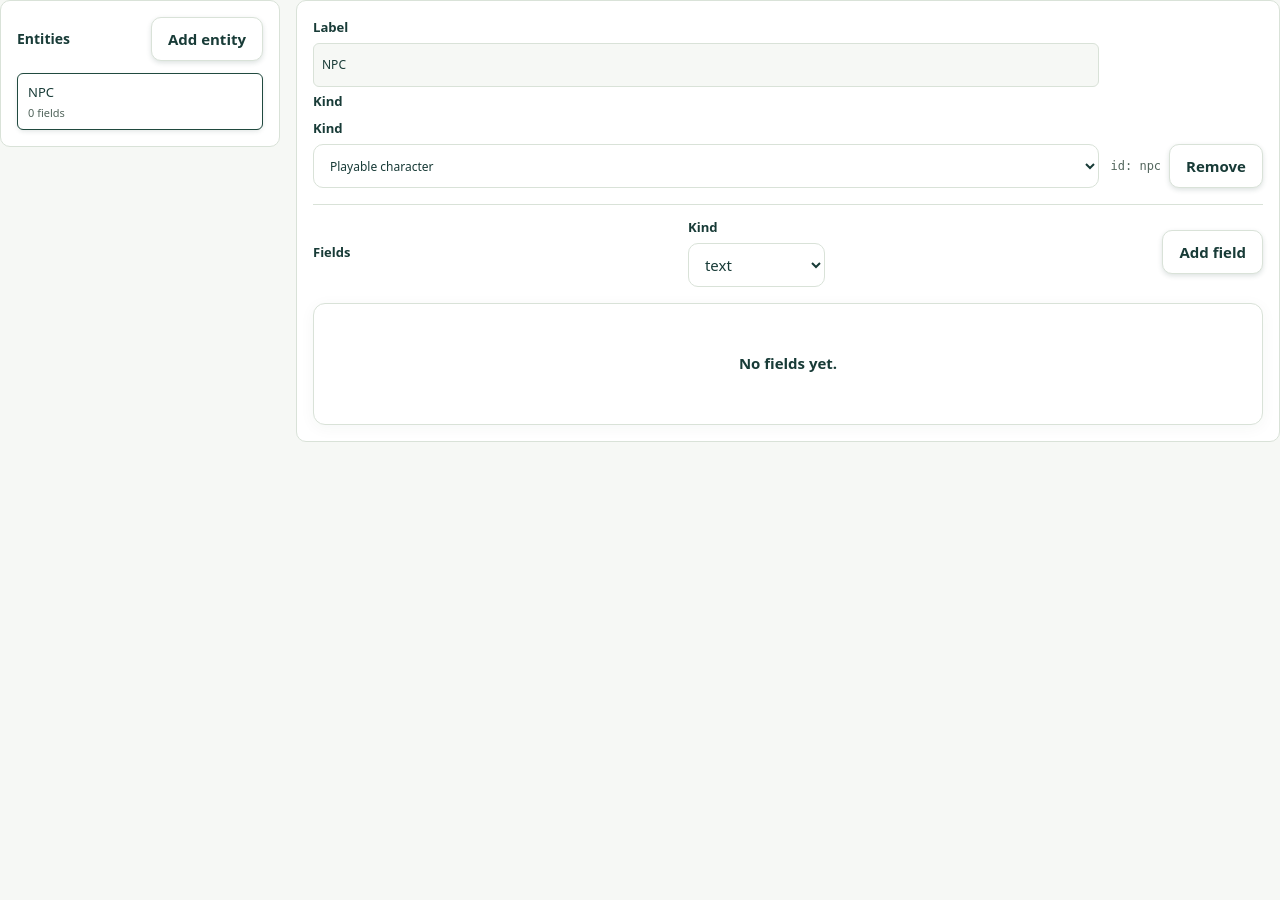
Scenario: EntityList › opens a remove confirmation dialog when 'Remove' is clicked
The width and height of the screenshot is (1280, 900).
Click the button with test id "entity-row-npc-remove" at (1216, 166), box [1169, 144, 1263, 188]
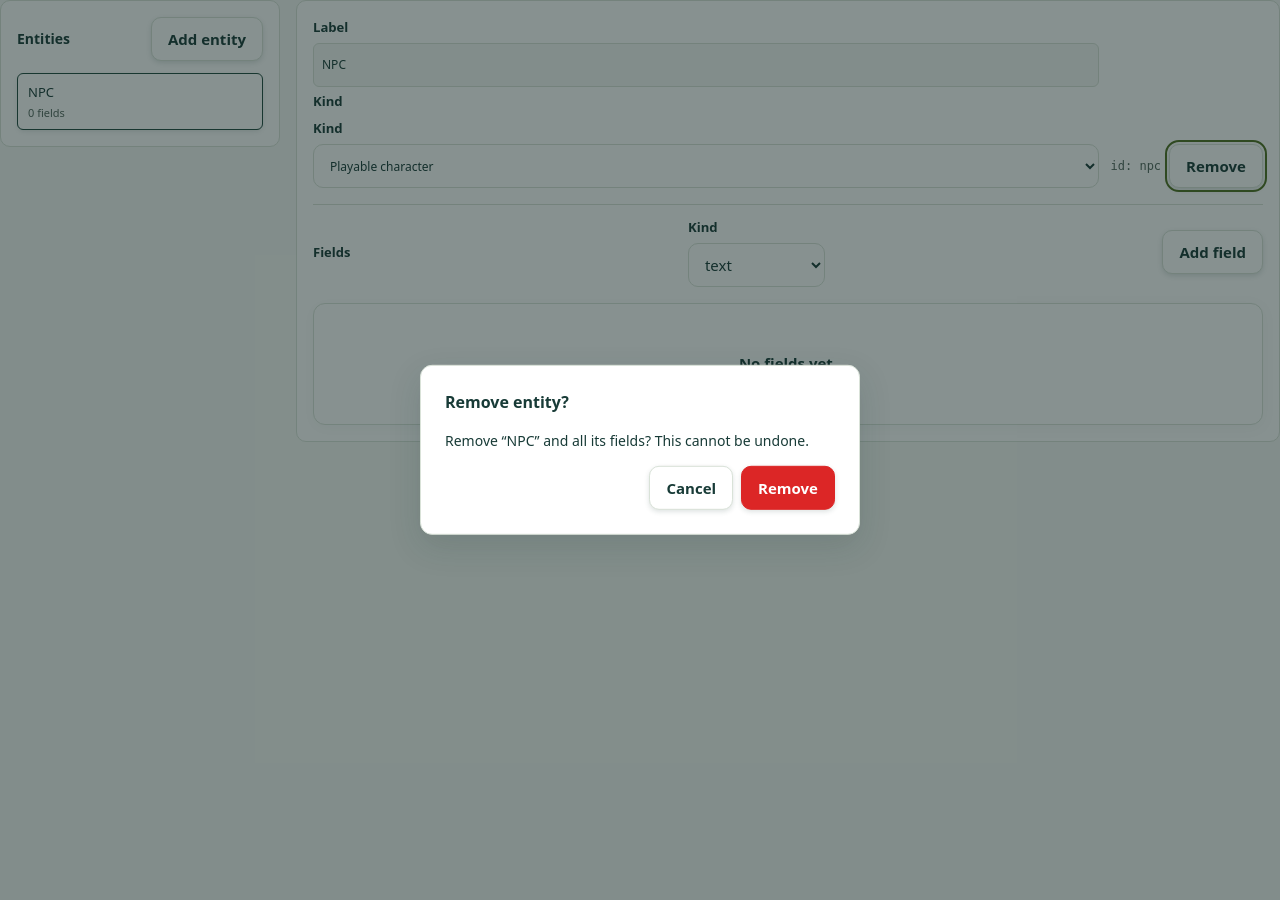
Check: the dialog with test id "entity-remove-confirm" is shown, box [420, 365, 860, 535]
